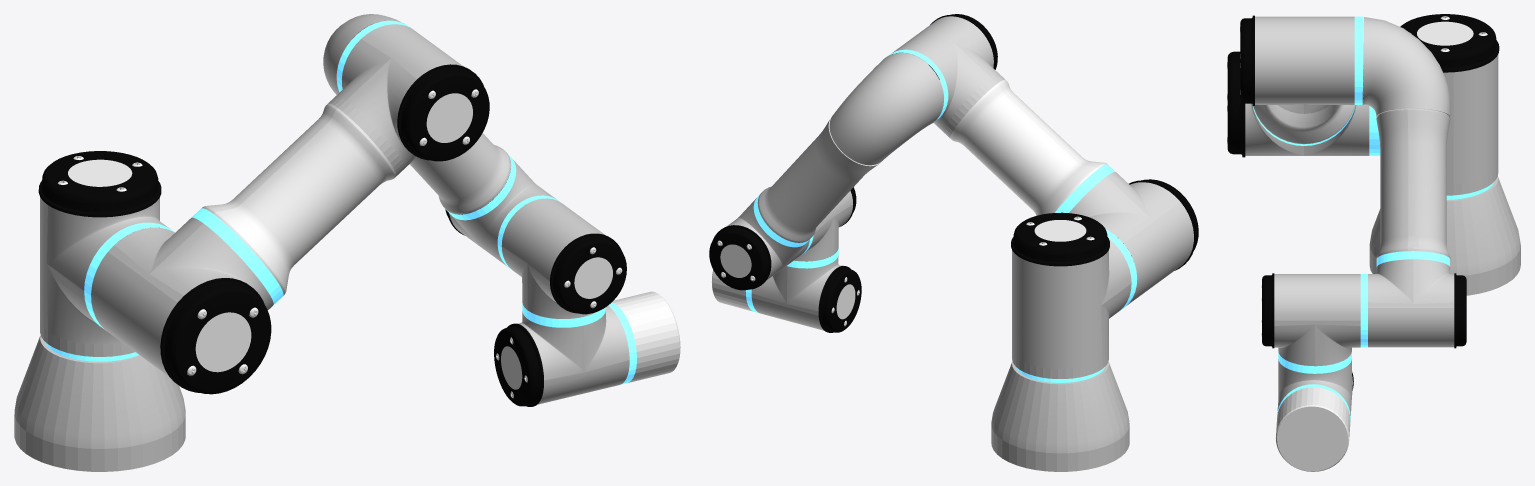
The picture shows the model from 3 angles, left to right: view 1: azimuth 30°, elevation 25°; view 2: azimuth 150°, elevation 25°; view 3: azimuth 270°, elevation 25°; orthographic projection. The views are drawn at different scales.
Parts seen in each view (by area): view 1: Shoulder_7, UnityRobotics_RF3_s1_9, UR3_8, Wrist03_3, Wrist02_4, Elbow_6, EffectorJoint_2, Wrist01_5; view 2: Shoulder_7, UR3_8, Elbow_6, UnityRobotics_RF3_s1_9, Wrist03_3, Wrist01_5, Wrist02_4, EffectorJoint_2; view 3: Shoulder_7, Elbow_6, UR3_8, Wrist01_5, Wrist02_4, UnityRobotics_RF3_s1_9, EffectorJoint_2, Wrist03_3.
Boxes of the visible parts, x1,y1,x2,y2 form: Shoulder_7: (91,20,489,394); UnityRobotics_RF3_s1_9: (14,335,185,471); UR3_8: (38,151,174,356); Wrist03_3: (494,302,636,406); Wrist02_4: (501,198,626,318); Elbow_6: (323,14,510,214); EffectorJoint_2: (612,291,680,382); Wrist01_5: (445,153,560,269); Shoulder_7: (888,14,1198,305); UR3_8: (1011,212,1137,378); Elbow_6: (757,53,943,242); UnityRobotics_RF3_s1_9: (991,361,1129,471); Wrist03_3: (745,245,861,332); Wrist01_5: (709,194,813,290); Wrist02_4: (794,187,856,261); EffectorJoint_2: (712,270,752,311); Shoulder_7: (1227,15,1369,157); Elbow_6: (1362,17,1450,259); UR3_8: (1369,14,1499,195); Wrist01_5: (1360,251,1466,348); Wrist02_4: (1261,273,1360,366); UnityRobotics_RF3_s1_9: (1369,176,1520,295); EffectorJoint_2: (1276,387,1350,471); Wrist03_3: (1277,351,1353,420).
Bounding box in the file's own units: 306 × 204 × 157.
